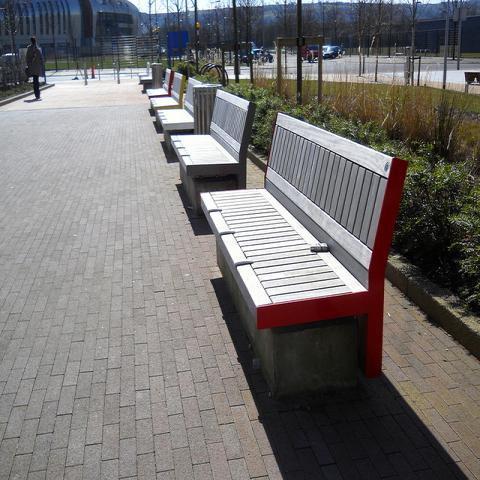car: (1, 53, 29, 83), (238, 41, 260, 55), (254, 50, 273, 64), (302, 45, 318, 59), (323, 46, 340, 57)
